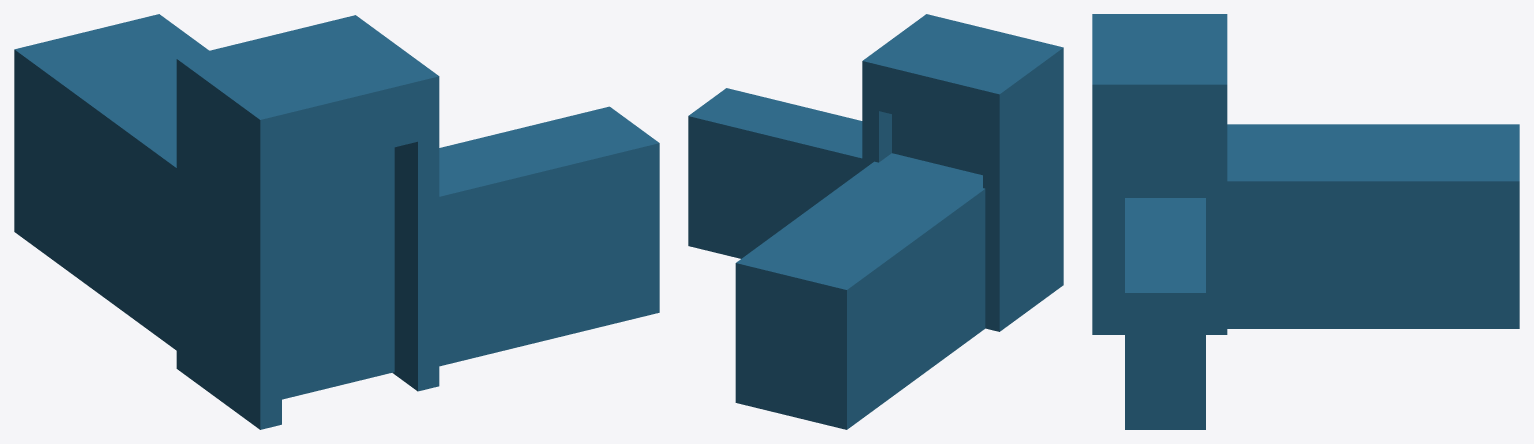
The model's file is SM_Bld_Background_08_Collision.fbx.
3 renders of one model, left to right at view 1: azimuth 30°, elevation 25°; view 2: azimuth 150°, elevation 25°; view 3: azimuth 270°, elevation 25°, orthographic. The views are drawn at different scales.
Parts seen in each view (by area): view 1: SM_Bld_Background_08_Collision; view 2: SM_Bld_Background_08_Collision; view 3: SM_Bld_Background_08_Collision.
Boxes of the visible parts, x1,y1,x2,y2 form: SM_Bld_Background_08_Collision: [14, 14, 659, 429]; SM_Bld_Background_08_Collision: [688, 14, 1063, 429]; SM_Bld_Background_08_Collision: [1092, 14, 1519, 429].
Bounding box in the file's own units: 4750 × 3352 × 5184.
